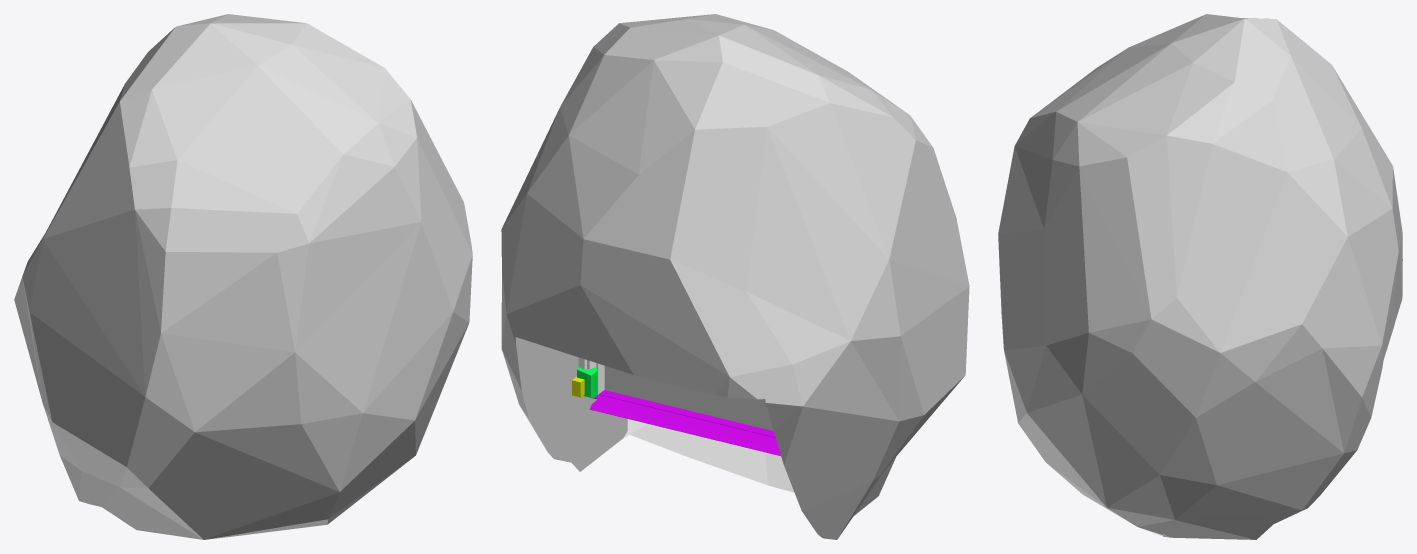
The model's file is inrock_door.fbx.
3 views of the same model, side by side, from view 1: azimuth 30°, elevation 25°; view 2: azimuth 150°, elevation 25°; view 3: azimuth 270°, elevation 25° (orthographic). The views are drawn at different scales.
Parts seen in each view (by area): view 1: LOD0; view 2: LOD0, doorframe, downdoor; view 3: LOD0.
Part boxes in pixels (box(x1,y1,x2,y2)): LOD0: box(14, 14, 472, 539); LOD0: box(501, 14, 969, 539); doorframe: box(572, 357, 780, 455); downdoor: box(604, 366, 773, 430); LOD0: box(998, 14, 1402, 539).
Bounding box in the file's own units: 448 × 512 × 398.
